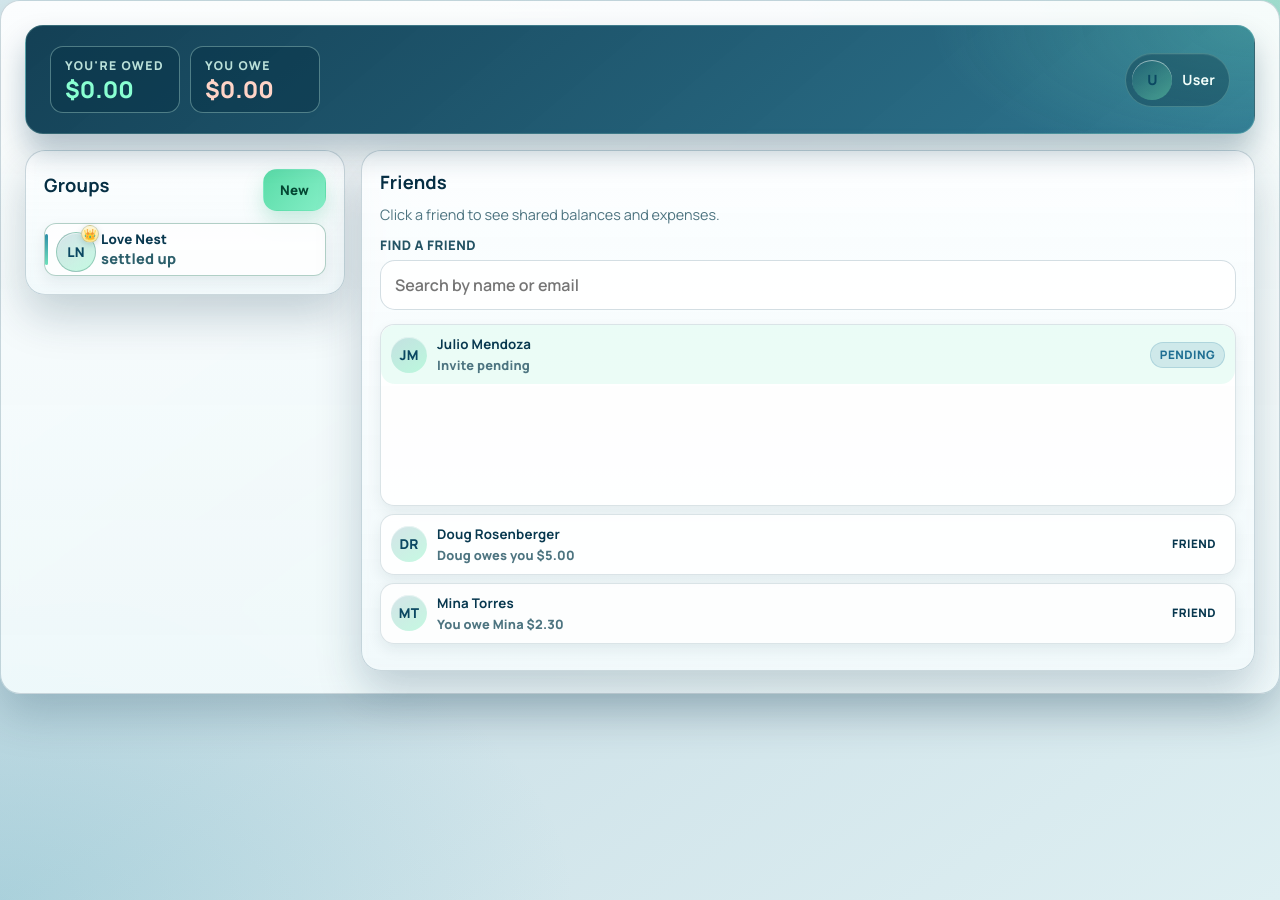
Scenario: DashboardView › filters friends by displayName on search
This screenshot has width=1280, height=900.
In the field labelled "Find a friend": point(808, 285) [380,260,1236,310], type "mina"
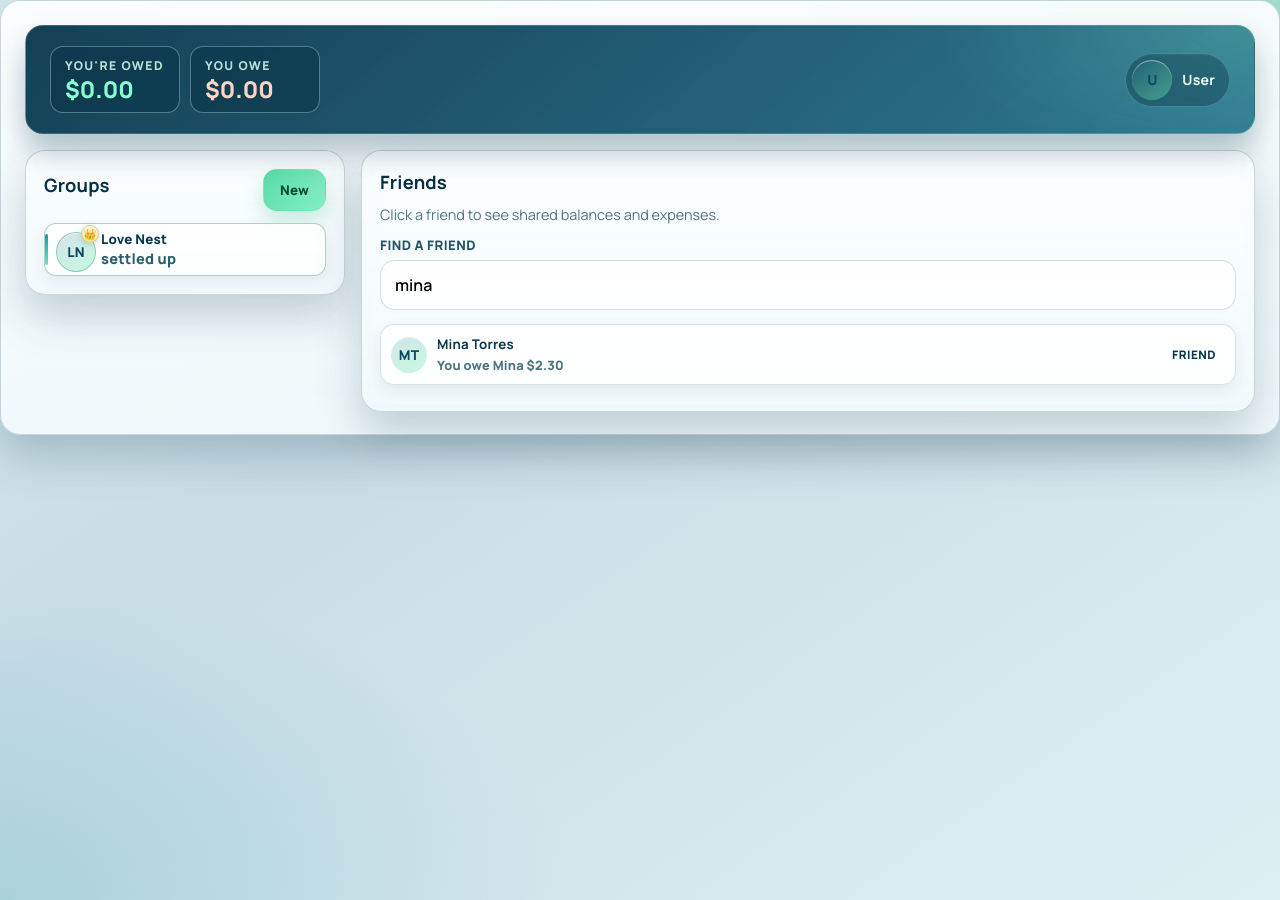
Expected: the button "MT Mina Torres You owe Mina $2.30 Friend" is shown, [381,325,1235,384]
Expected: the button "Doug Rosenberger" is gone
